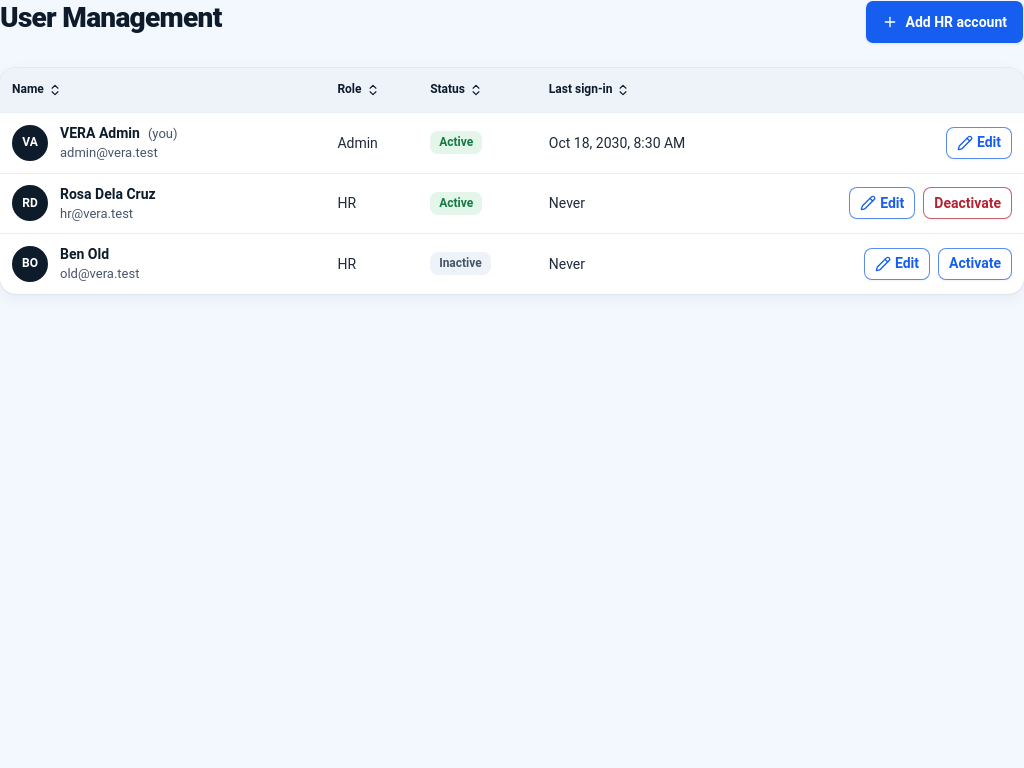
Add HR account › a confirm password that does not match → error in the dialog, nothing posted
Click the button "Add HR account".
click(944, 22)  # box [864, 0, 1023, 44]
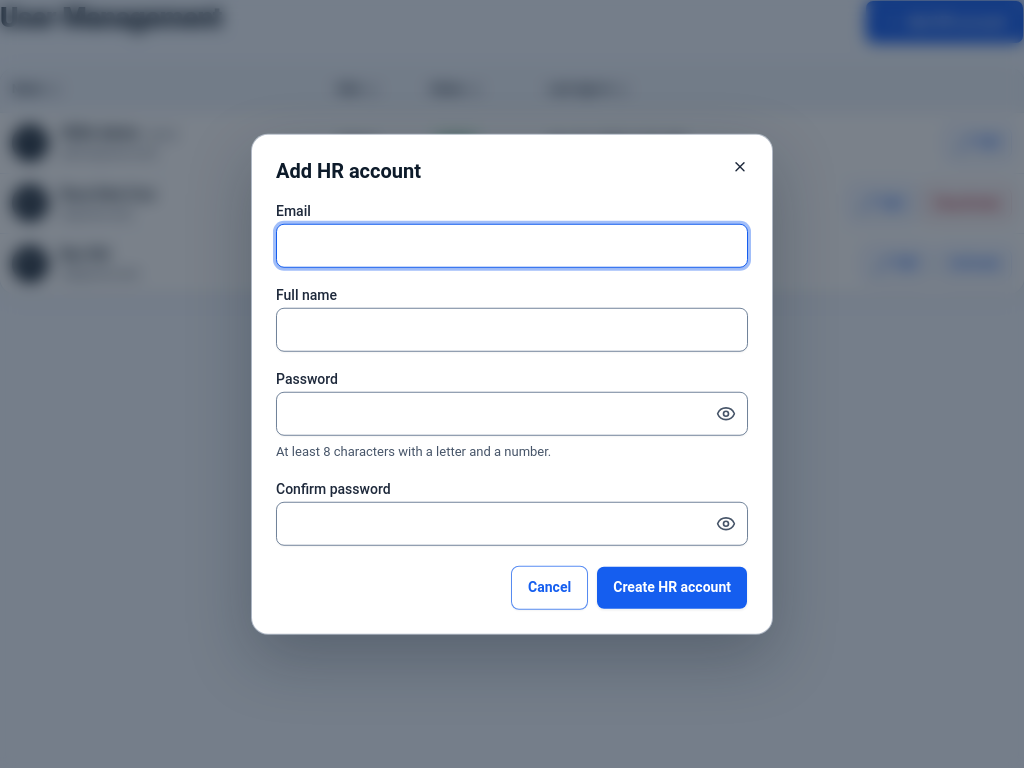
Type "new@vera.test" into the field labelled "Email".
click(512, 246); type("new@vera.test")  # box [276, 224, 748, 268]
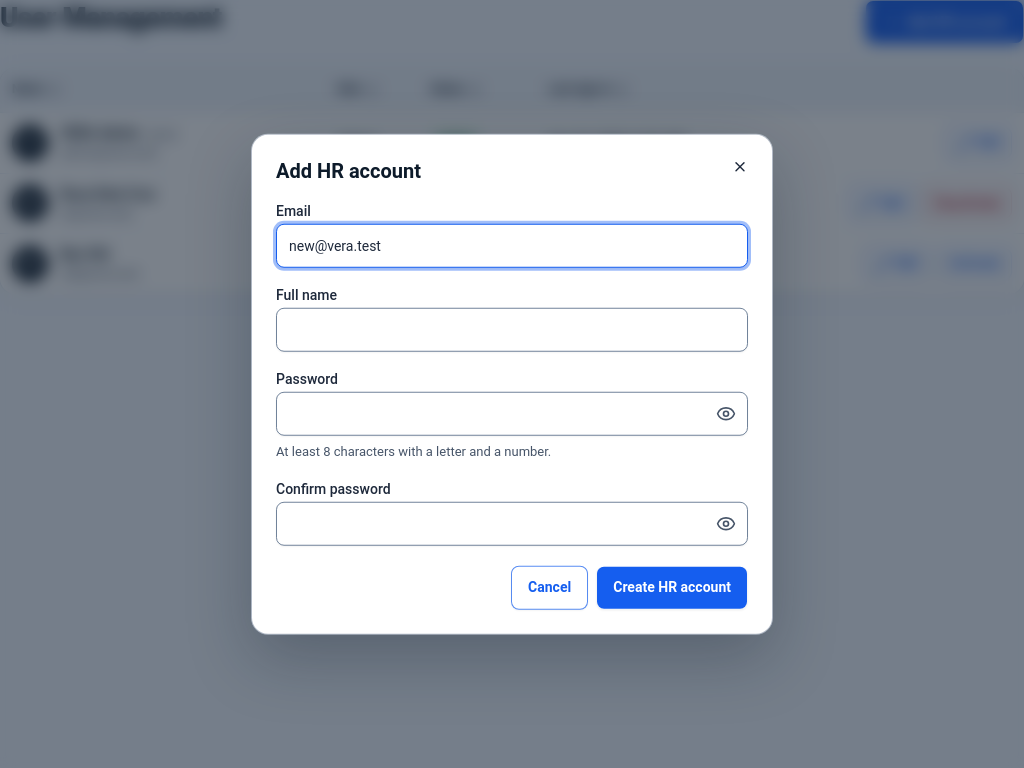
Type "New HR" into the field labelled "Full name".
click(512, 330); type("New HR")  # box [276, 308, 748, 352]
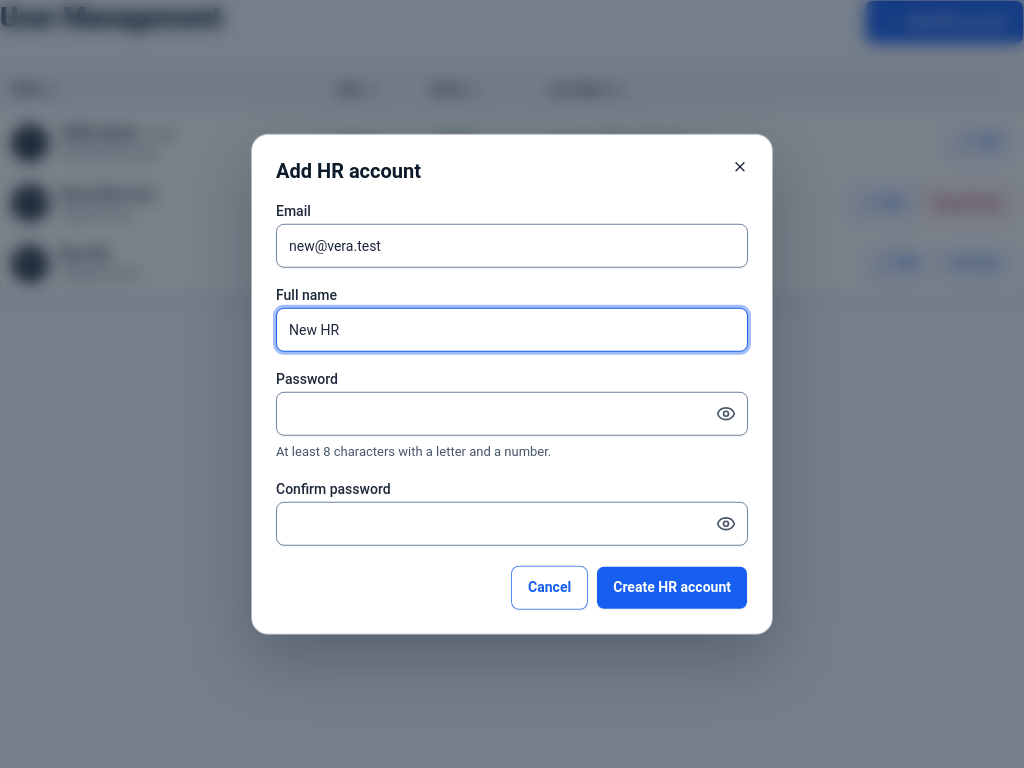
Type "Temp1234" into the password field labelled "Password".
click(512, 414); type("Temp1234")  # box [276, 392, 748, 436]
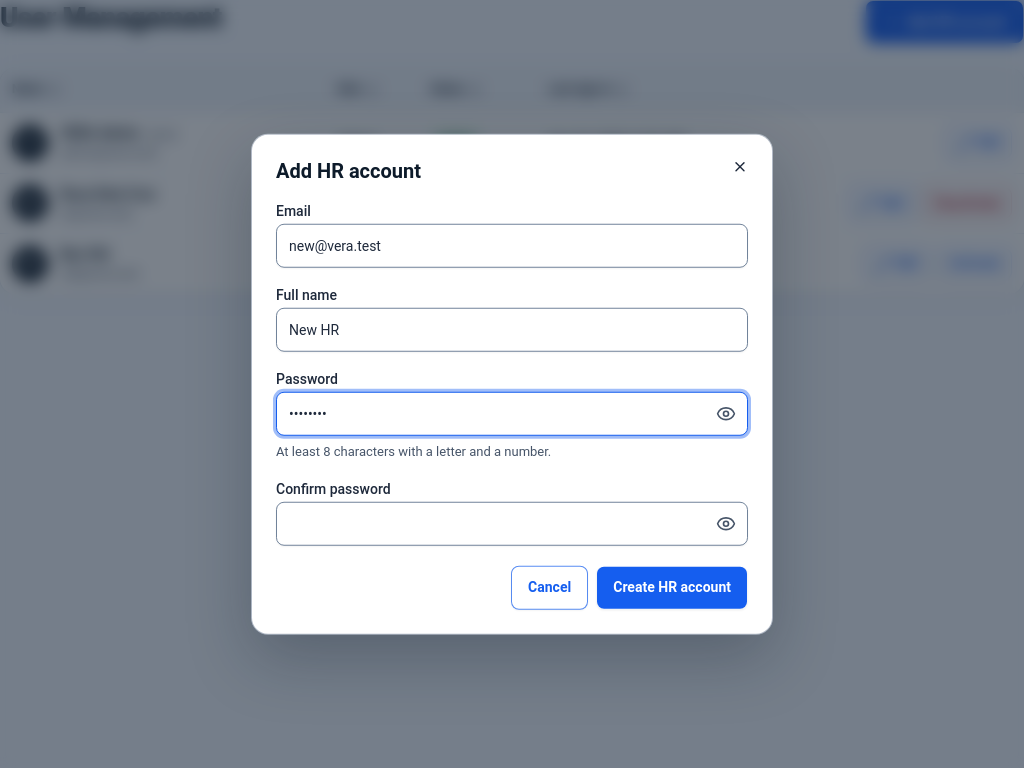
Type "Temp12345" into the password field labelled "Confirm password".
click(512, 523); type("Temp12345")  # box [276, 501, 748, 545]
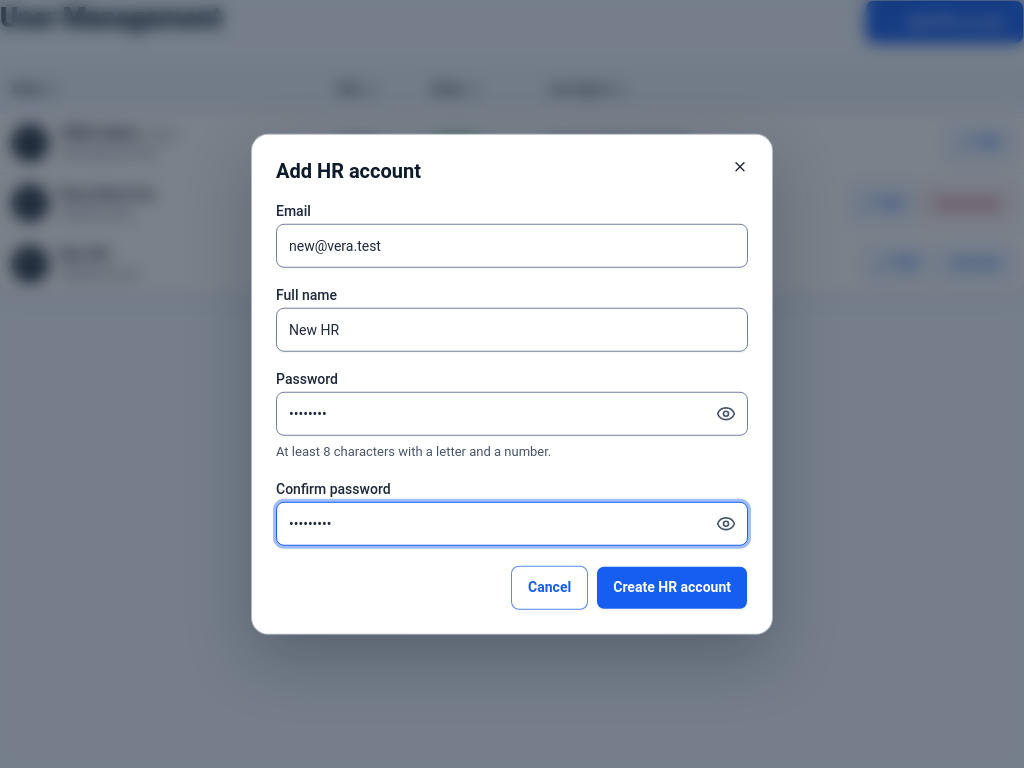
Click the button "Create HR account".
click(672, 587)  # box [596, 565, 748, 609]
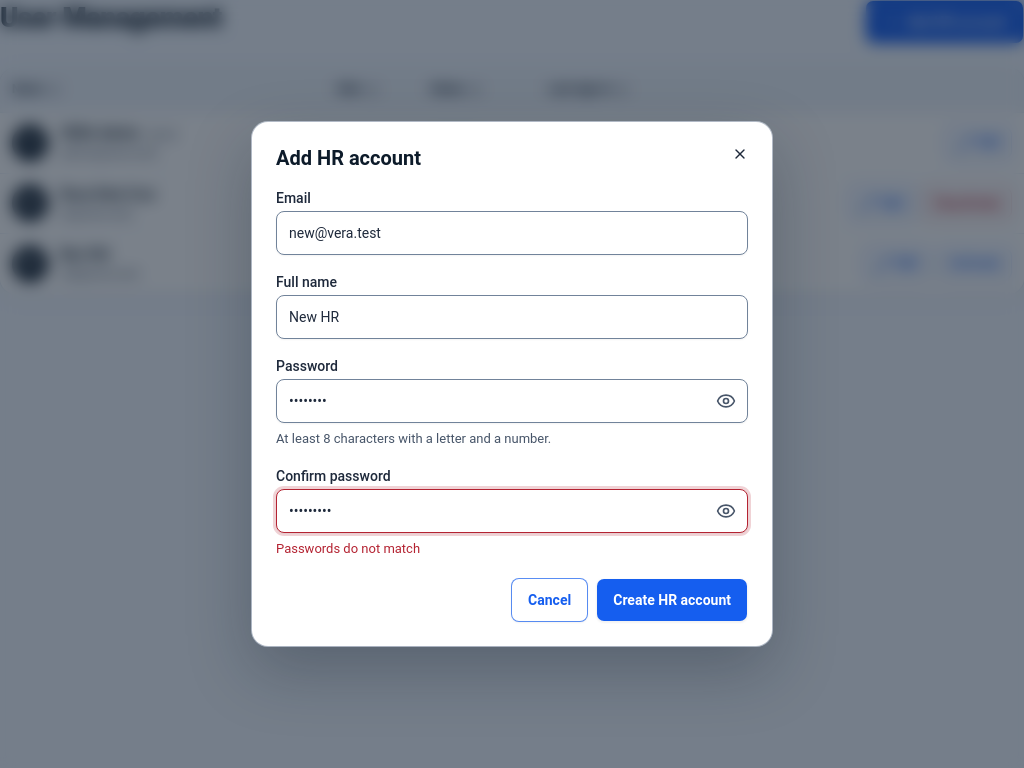
Now the text "Passwords do not match" is shown, box [276, 540, 420, 556]
